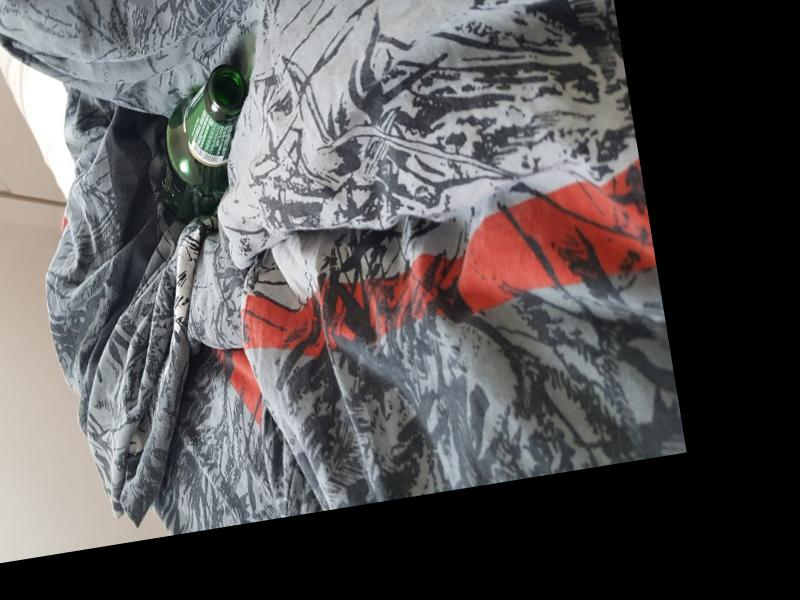Beer: (142, 60, 268, 229)
